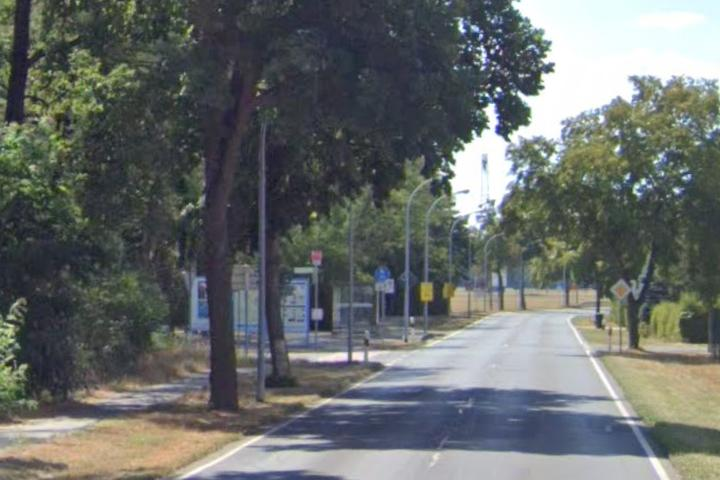traffic_sign: (609, 279, 632, 299)
